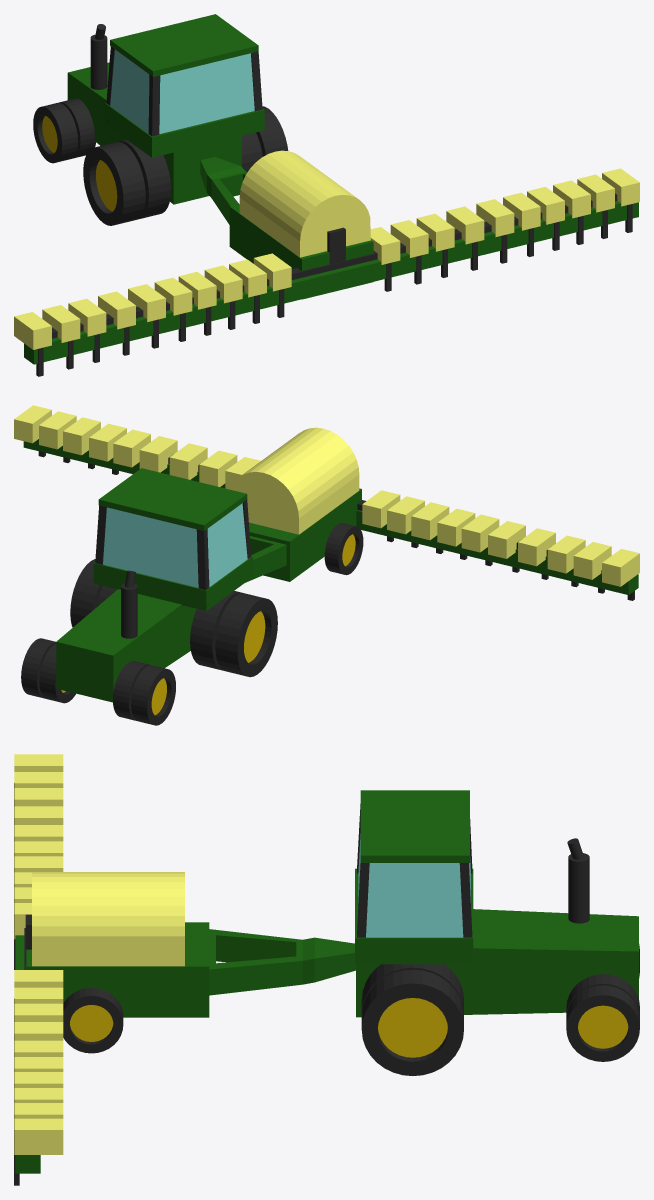
File: planter.gltf
3 views of the same model, one above another, from view 1: azimuth 30°, elevation 25°; view 2: azimuth 150°, elevation 25°; view 3: azimuth 270°, elevation 25° (orthographic). The views are drawn at different scales.
Visible parts, largest first — view 1: Cube.001, Cylinder, Cube.025, Cube.026, Cube.024, Tire.007, Cube.023, Cube, Tire.011, Cube.022, Tire.006, Cube.052 (+26 smaller); view 2: Cube.024, Cylinder, Cube.025, Cube.026, Tire.007, Cube.001, Cube, Cube.023, Tire.011, Tire.006, Tire.003, Tire.004 (+26 smaller); view 3: Cube.024, Cylinder, Tire.004, Cube.026, Cube, Cube.022, Cube.025, Tire.008, Cube.023, Tire.001, Cube.042, Cylinder.001 (+21 smaller).
Boxes of the visible parts, box(x1,y1,x2,y2) form: Cube.001: box(24, 201, 638, 364); Cylinder: box(239, 150, 370, 257); Cube.025: box(110, 49, 254, 133); Cube.026: box(110, 14, 258, 76); Cube.024: box(67, 62, 241, 204); Tire.007: box(83, 142, 145, 225); Cube.023: box(105, 103, 264, 157); Cube: box(229, 204, 373, 299); Tire.011: box(33, 102, 78, 163); Cube.022: box(200, 157, 247, 224); Tire.006: box(118, 139, 170, 219); Cube.052: box(52, 193, 617, 338); Cube.024: box(56, 589, 196, 702); Cylinder: box(230, 427, 359, 534); Cube.025: box(103, 503, 247, 587); Cube.026: box(98, 468, 247, 530); Tire.007: box(215, 593, 277, 677); Cube.001: box(23, 439, 638, 594); Cube: box(249, 488, 361, 581); Cube.023: box(93, 556, 252, 610); Tire.011: box(131, 665, 175, 725); Tire.006: box(190, 591, 242, 670); Tire.003: box(324, 523, 363, 575); Tire.004: box(70, 559, 102, 627); Cube.024: box(356, 909, 638, 1017); Cylinder: box(32, 872, 184, 966); Tire.004: box(361, 969, 463, 1075); Cube.026: box(360, 790, 469, 862); Cube: box(26, 922, 209, 1017); Cube.022: box(209, 929, 355, 995); Cube.025: box(358, 834, 470, 937); Tire.008: box(566, 985, 639, 1061); Cube.023: box(355, 868, 473, 964); Tire.001: box(63, 987, 123, 1053); Cube.042: box(14, 1118, 63, 1154); Cylinder.001: box(568, 853, 589, 923).
Size of the model in its own units: 22.08 by 5.52 by 15.55.
